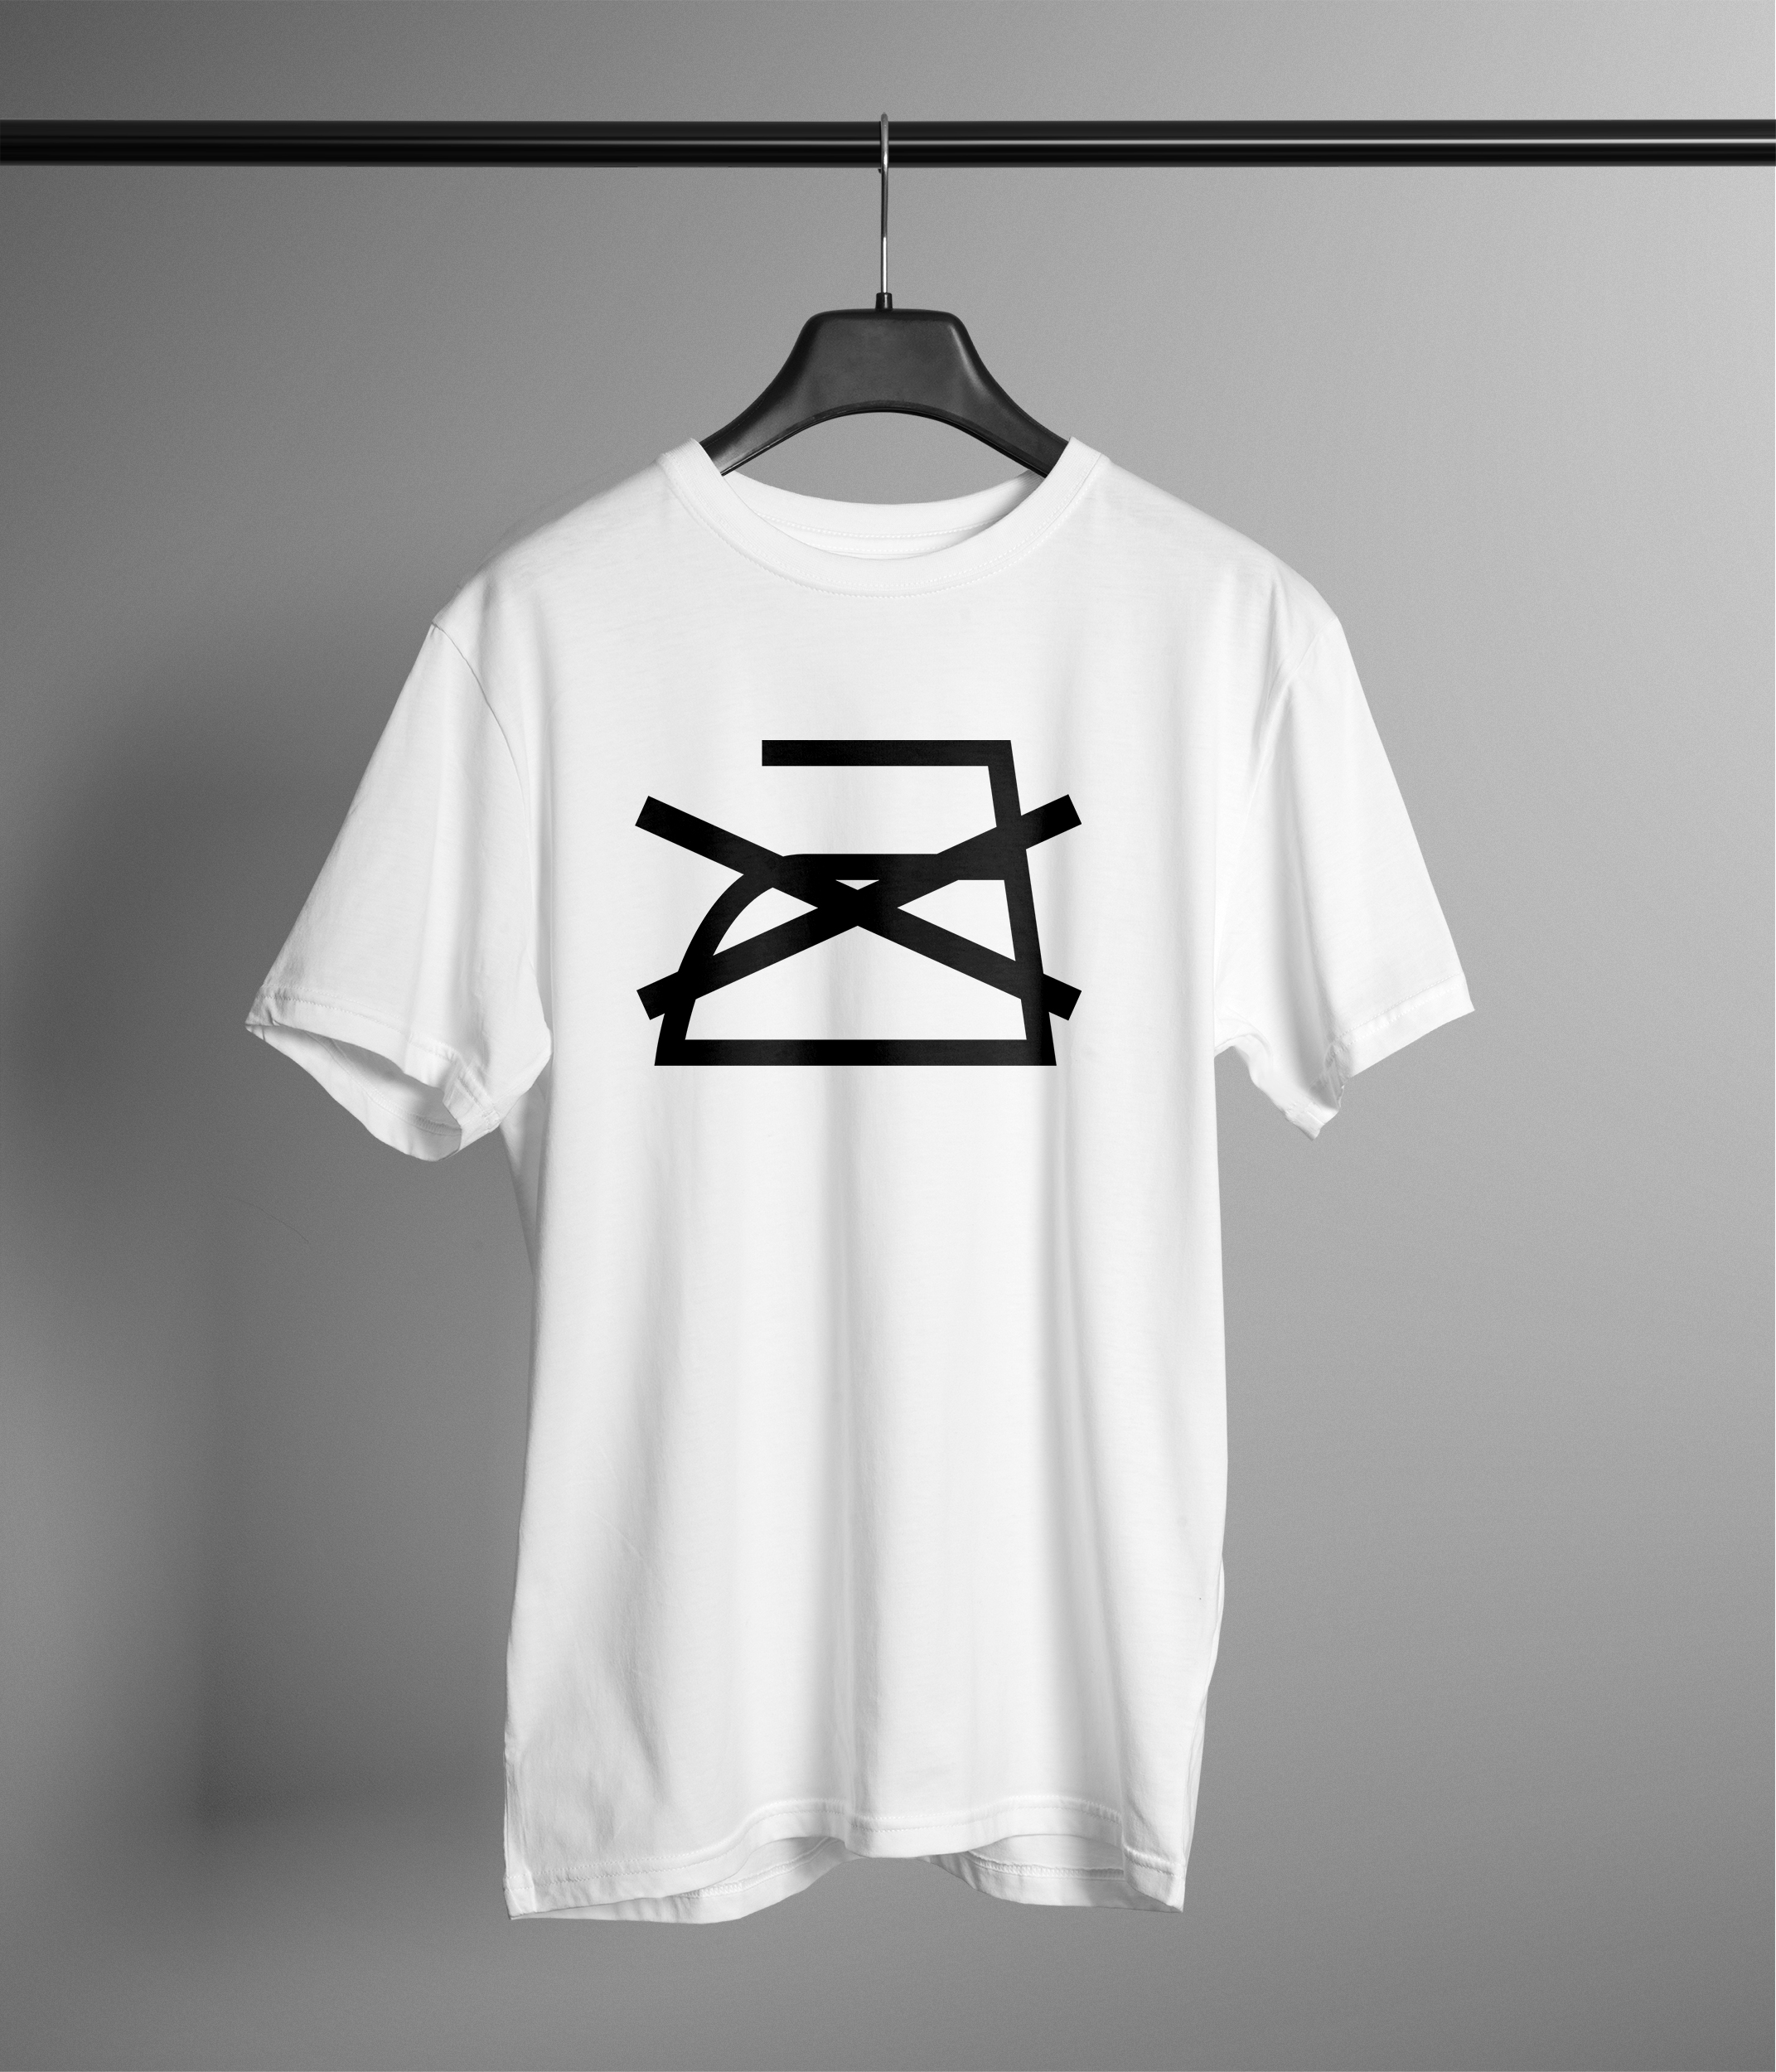do_not_iron: (624, 738, 1084, 1071)
